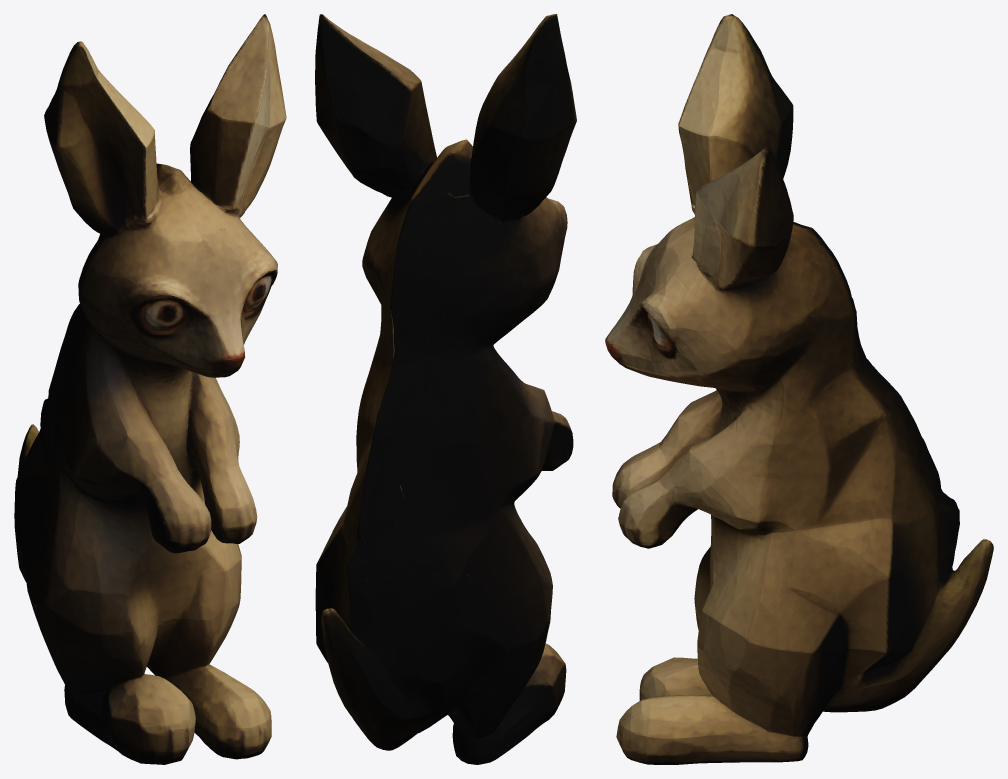
The model's file is kitrabbit_pendular.glb.
The picture shows the model from 3 angles, left to right: view 1: azimuth 30°, elevation 25°; view 2: azimuth 150°, elevation 25°; view 3: azimuth 270°, elevation 25°; orthographic projection. The views are drawn at different scales.
Parts seen in each view (by area): view 1: world; view 2: world; view 3: world.
Part boxes in pixels (bbox=[...]): world: bbox=[14, 14, 286, 764]; world: bbox=[315, 14, 576, 764]; world: bbox=[605, 14, 993, 764].
Size of the model in its own units: 0.3536 by 1 by 0.5159.
Materials: 1 (1 with a texture image).
